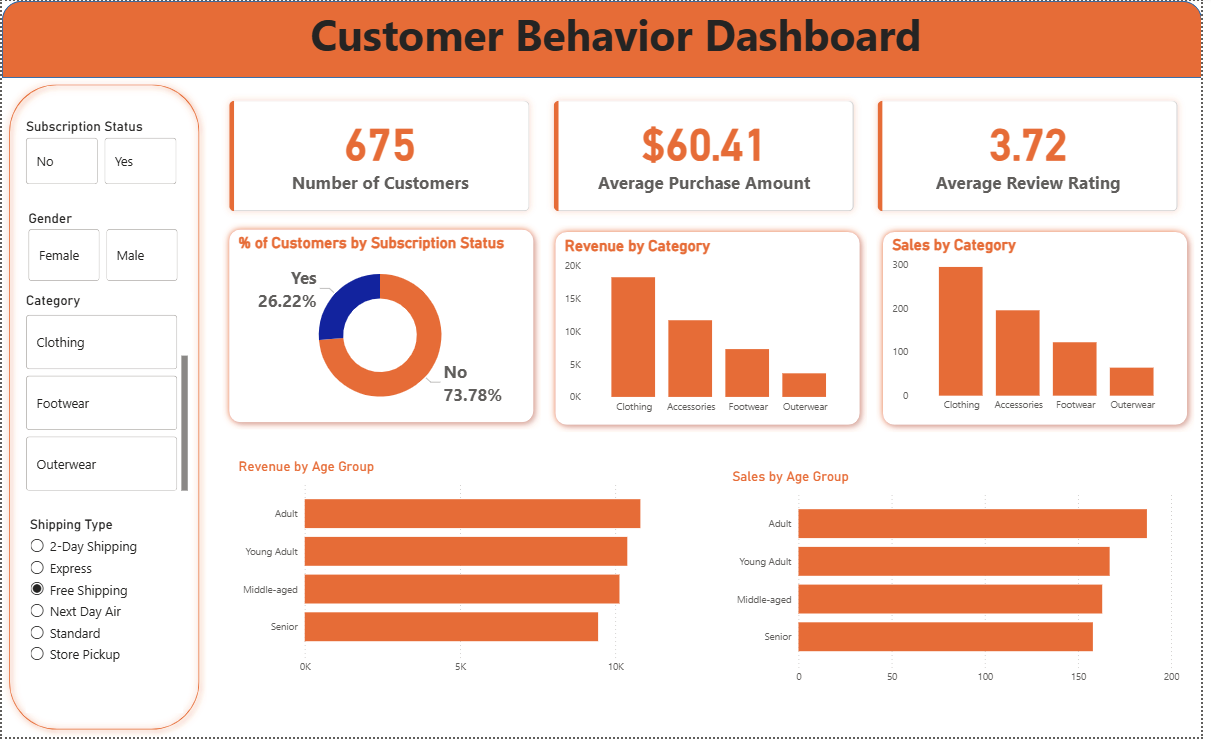

What the dashboard file says about the page in this screenshot:
{"tool":"powerbi","page":{"name":"Page 1","canvas":[1500,920],"ordinal":0},"visuals":[{"type":"cardVisual","fields":{"Data":["da_RetailCompany_cleaned.Number of Customers","da_RetailCompany_cleaned.Average Purchase Amount","da_RetailCompany_cleaned.Average Review Rating"]},"box":[256.3,96.1,1243.7,195],"z":0},{"type":"shape","box":[0,0,1499.9,96.1],"z":1000},{"type":"textbox","box":[29.3,0,1225.3,96.6],"z":2000},{"type":"shape","box":[274.4,277.1,398.3,259],"z":3000},{"type":"donutChart","title":"% of Customers by Subscription Status","fields":{"Category":["da_RetailCompany_cleaned.subscription_status"],"Y":["CountNonNull(da_RetailCompany_cleaned.customer_id)"]},"box":[290.8,290.8,364.3,233.3],"z":4000},{"type":"shape","box":[683.1,279.9,398.3,259],"z":5000},{"type":"shape","box":[1091.9,279.9,398.3,259],"z":6000},{"type":"clusteredColumnChart","title":"Revenue by Category","fields":{"Y":["Sum(da_RetailCompany_cleaned.purchase_amount)"],"Category":["da_RetailCompany_cleaned.category"]},"box":[699.1,295.2,367.7,229.8],"z":7000},{"type":"clusteredColumnChart","title":"Sales by Category","fields":{"Y":["CountNonNull(da_RetailCompany_cleaned.customer_id)"],"Category":["da_RetailCompany_cleaned.category"]},"box":[1108.6,293.9,367.7,229.8],"z":8000},{"type":"shape","box":[0,95.9,255.6,824.5],"z":9000},{"type":"advancedSlicerVisual","fields":{"Values":["da_RetailCompany_cleaned.subscription_status"]},"box":[25.6,147,199.7,87.9],"z":10000},{"type":"advancedSlicerVisual","fields":{"Values":["da_RetailCompany_cleaned.gender"]},"box":[28.8,260.4,196.5,94.3],"z":11000},{"type":"advancedSlicerVisual","fields":{"Values":["da_RetailCompany_cleaned.category"]},"box":[25.6,364.3,212.5,250.9],"z":12000},{"type":"listSlicer","fields":{"Values":["da_RetailCompany_cleaned.shipping_type"]},"box":[30.4,643.9,196.5,246.1],"z":13000},{"type":"clusteredBarChart","title":"Sales by Age Group","fields":{"Y":["CountNonNull(da_RetailCompany_cleaned.customer_id)"],"Category":["da_RetailCompany_cleaned.age_group"]},"box":[907.5,584.8,568.8,278],"z":15002},{"type":"clusteredBarChart","title":"Revenue by Age Group","fields":{"Y":["Sum(da_RetailCompany_cleaned.purchase_amount)"],"Category":["da_RetailCompany_cleaned.age_group"]},"box":[290.8,572,568.8,278],"z":15003}]}

Visuals, with their boxes in screenshot pixels (x1, y1, x2, y2), scaled from the page's 1500x920 canvas onto the 1211x740 screenshot:
cardVisual - da_RetailCompany_cleaned.Number of Customers x da_RetailCompany_cleaned.Average Purchase Amount: (207,77,1210,234)
shape: (0,0,1210,77)
textbox: (24,0,1013,78)
shape: (222,223,543,431)
"% of Customers by Subscription Status" donutChart: (235,234,529,422)
shape: (551,225,873,433)
shape: (882,225,1203,433)
"Revenue by Category" clusteredColumnChart: (564,237,861,422)
"Sales by Category" clusteredColumnChart: (895,236,1192,421)
shape: (0,77,206,739)
advancedSlicerVisual - da_RetailCompany_cleaned.subscription_status: (21,118,182,189)
advancedSlicerVisual - da_RetailCompany_cleaned.gender: (23,209,182,285)
advancedSlicerVisual - da_RetailCompany_cleaned.category: (21,293,192,495)
listSlicer - da_RetailCompany_cleaned.shipping_type: (25,518,183,716)
"Sales by Age Group" clusteredBarChart: (733,470,1192,694)
"Revenue by Age Group" clusteredBarChart: (235,460,694,684)
